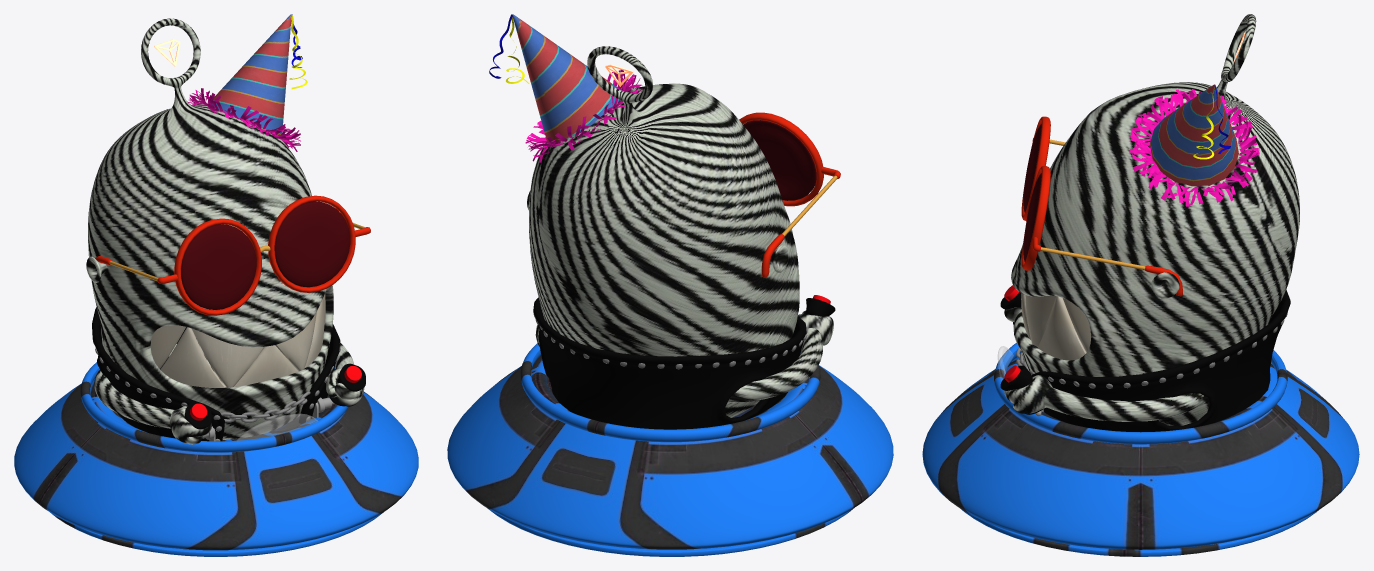
File: martien2.glb
The picture shows the model from 3 angles, left to right: view 1: azimuth 30°, elevation 25°; view 2: azimuth 150°, elevation 25°; view 3: azimuth 270°, elevation 25°; orthographic projection. The views are drawn at different scales.
Parts seen in each view (by area): view 1: SA1-8,18_flyingsaucerflying, EY11_M1_sunglassesEye, OEY11_sunglassescylinder, OM1_bigSmileteeth, H10_birthdayHathat, V14_leather_Jacketvest, hands, H10_birthdayHatlace.003, SA1-8,18_flyingsaucerglass, SAmanette2.001, V14_leather_Jacketchain, OEY11_sunglassescube; view 2: EY11_M1_sunglassesEye, SA1-8,18_flyingsaucerflying, V14_leather_Jacketvest, H10_birthdayHathat, OEY11_sunglassescylinder, hands, H10_birthdayHatlace.003, OEY11_sunglassescube, V14_leather_Jacketmetal; view 3: SA1-8,18_flyingsaucerflying, EY11_M1_sunglassesEye, V14_leather_Jacketvest, H10_birthdayHathat, hands, H10_birthdayHatlace.003, OM1_bigSmileteeth, OEY11_sunglassescylinder, OEY11_sunglassescube, SAmanette2.001.
Part boxes in pixels (x1,y1,x2,y2): SA1-8,18_flyingsaucerflying: [14, 362, 418, 556]; EY11_M1_sunglassesEye: [86, 18, 333, 439]; OEY11_sunglassescylinder: [174, 195, 355, 315]; OM1_bigSmileteeth: [150, 294, 325, 387]; H10_birthdayHathat: [209, 14, 291, 135]; V14_leather_Jacketvest: [92, 307, 339, 441]; hands: [94, 343, 364, 444]; H10_birthdayHatlace.003: [188, 88, 300, 151]; SA1-8,18_flyingsaucerglass: [236, 414, 317, 440]; SAmanette2.001: [184, 363, 365, 429]; V14_leather_Jacketchain: [220, 391, 310, 422]; OEY11_sunglassescube: [95, 223, 370, 283]; EY11_M1_sunglassesEye: [527, 46, 799, 417]; SA1-8,18_flyingsaucerflying: [447, 343, 893, 556]; V14_leather_Jacketvest: [533, 297, 806, 429]; H10_birthdayHathat: [512, 14, 621, 143]; OEY11_sunglassescylinder: [739, 112, 823, 206]; hands: [535, 310, 833, 402]; H10_birthdayHatlace.003: [525, 69, 642, 162]; OEY11_sunglassescube: [761, 167, 840, 277]; V14_leather_Jacketmetal: [533, 313, 807, 369]; SA1-8,18_flyingsaucerflying: [922, 343, 1359, 556]; EY11_M1_sunglassesEye: [1011, 14, 1299, 425]; V14_leather_Jacketvest: [1032, 289, 1290, 432]; H10_birthdayHathat: [1150, 84, 1238, 186]; hands: [1004, 307, 1205, 421]; H10_birthdayHatlace.003: [1129, 89, 1259, 206]; OM1_bigSmileteeth: [1021, 293, 1091, 360]; OEY11_sunglassescylinder: [1021, 116, 1050, 270]; OEY11_sunglassescube: [1032, 138, 1182, 296]; SAmanette2.001: [1000, 292, 1043, 414].
Bounding box in the file's own units: 1.95 × 2.43 × 1.95.
Materials: 19 (5 with a texture image).
